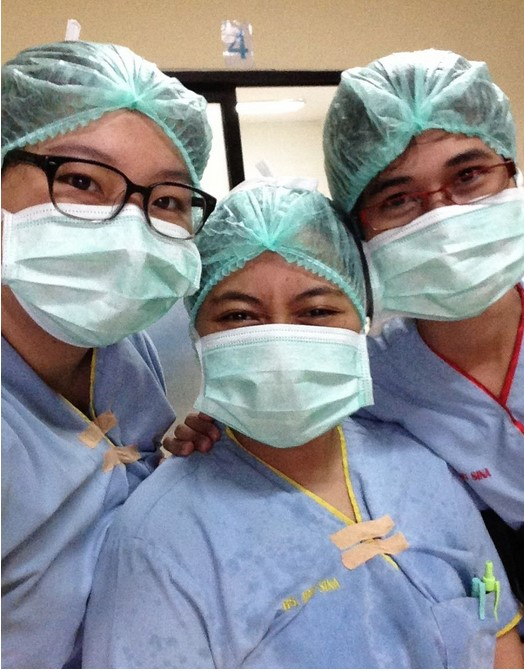face_with_mask: (0, 38, 211, 345), (322, 51, 523, 325), (192, 178, 376, 446)
